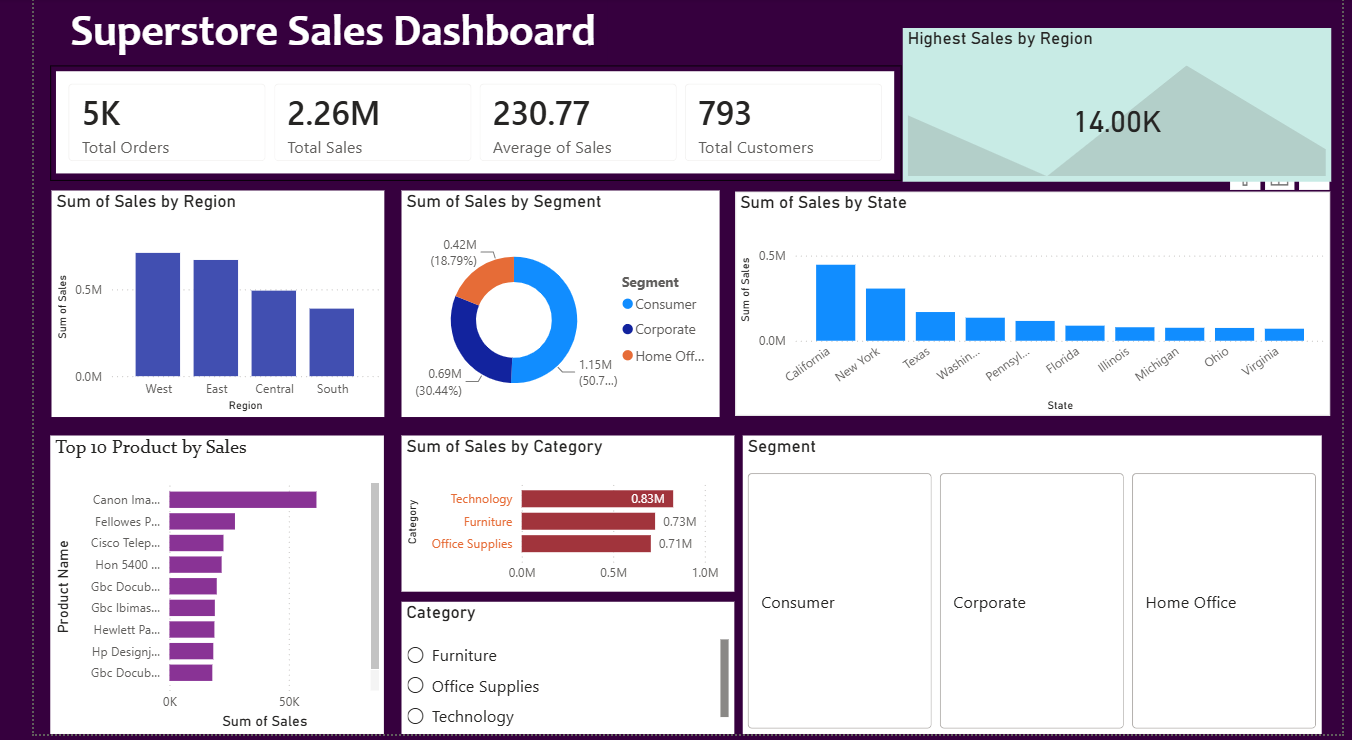

This screenshot's page, from the dashboard's own definition file:
{"tool":"powerbi","page":{"name":"Page 1","canvas":[1280,720],"ordinal":0},"visuals":[{"type":"textbox","box":[30.2,0,530,65.7],"z":0},{"type":"cardVisual","fields":{"Data":["train.Total Orders","train.Total Sales","Avg(train.Sales)","train.Total Customers"]},"box":[15.9,66,832.9,112.9],"z":1000},{"type":"clusteredBarChart","fields":{"Category":["train.Category"],"Y":["Sum(train.Sales)"]},"box":[360,428.6,325.7,152.9],"z":2000},{"type":"clusteredColumnChart","fields":{"Category":["train.Region"],"Y":["Sum(train.Sales)"]},"box":[17.1,188.6,325.7,221.4],"z":3000},{"type":"donutChart","fields":{"Category":["train.Segment"],"Y":["Sum(train.Sales)"]},"box":[360,188.6,311.4,221.4],"z":4000},{"type":"barChart","title":"Top 10 Product by Sales","fields":{"Category":["train.Product Name"],"Y":["Sum(train.Sales)"]},"box":[16.5,428.1,326.6,292.3],"z":5000},{"type":"lineClusteredColumnComboChart","fields":{"Category":["train.State"],"Y":["Sum(train.Sales)"]},"box":[686.1,189.4,581.8,219.6],"z":6000},{"type":"advancedSlicerVisual","fields":{"Values":["train.Segment"]},"box":[693,428.1,566.7,292.3],"z":7000},{"type":"listSlicer","fields":{"Values":["train.Category"]},"box":[359.5,590.1,325.2,130.4],"z":8000},{"type":"kpi","fields":{"Indicator":["train.Highest Sales"],"TrendLine":["train.Region"]},"box":[850,29,419,150],"z":9000}]}

Visuals, with their boxes in screenshot pixels (x1, y1, x2, y2), scaled from the page's 1280x720 canvas onto the 1352x740 screenshot:
textbox: rect(32, 0, 592, 68)
cardVisual - train.Total Orders x train.Total Sales: rect(17, 68, 897, 184)
clusteredBarChart - train.Category x Sum(train.Sales): rect(380, 441, 724, 598)
clusteredColumnChart - train.Region x Sum(train.Sales): rect(18, 194, 362, 421)
donutChart - train.Segment x Sum(train.Sales): rect(380, 194, 709, 421)
"Top 10 Product by Sales" barChart: rect(17, 440, 362, 739)
lineClusteredColumnComboChart - train.State x Sum(train.Sales): rect(725, 195, 1339, 420)
advancedSlicerVisual - train.Segment: rect(732, 440, 1331, 739)
listSlicer - train.Category: rect(380, 606, 723, 739)
kpi - train.Highest Sales x train.Region: rect(898, 30, 1340, 184)
